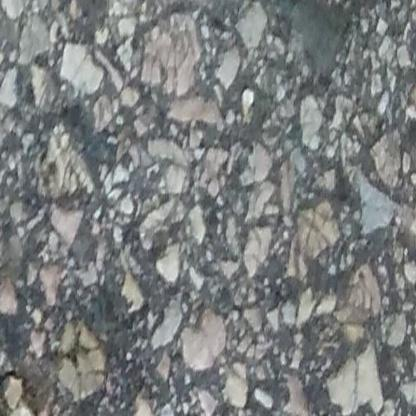Cracks: (0, 377, 50, 416)
